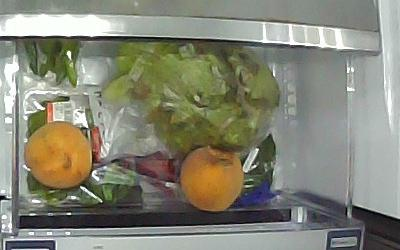peach: (24, 121, 93, 190), (179, 146, 244, 212)
